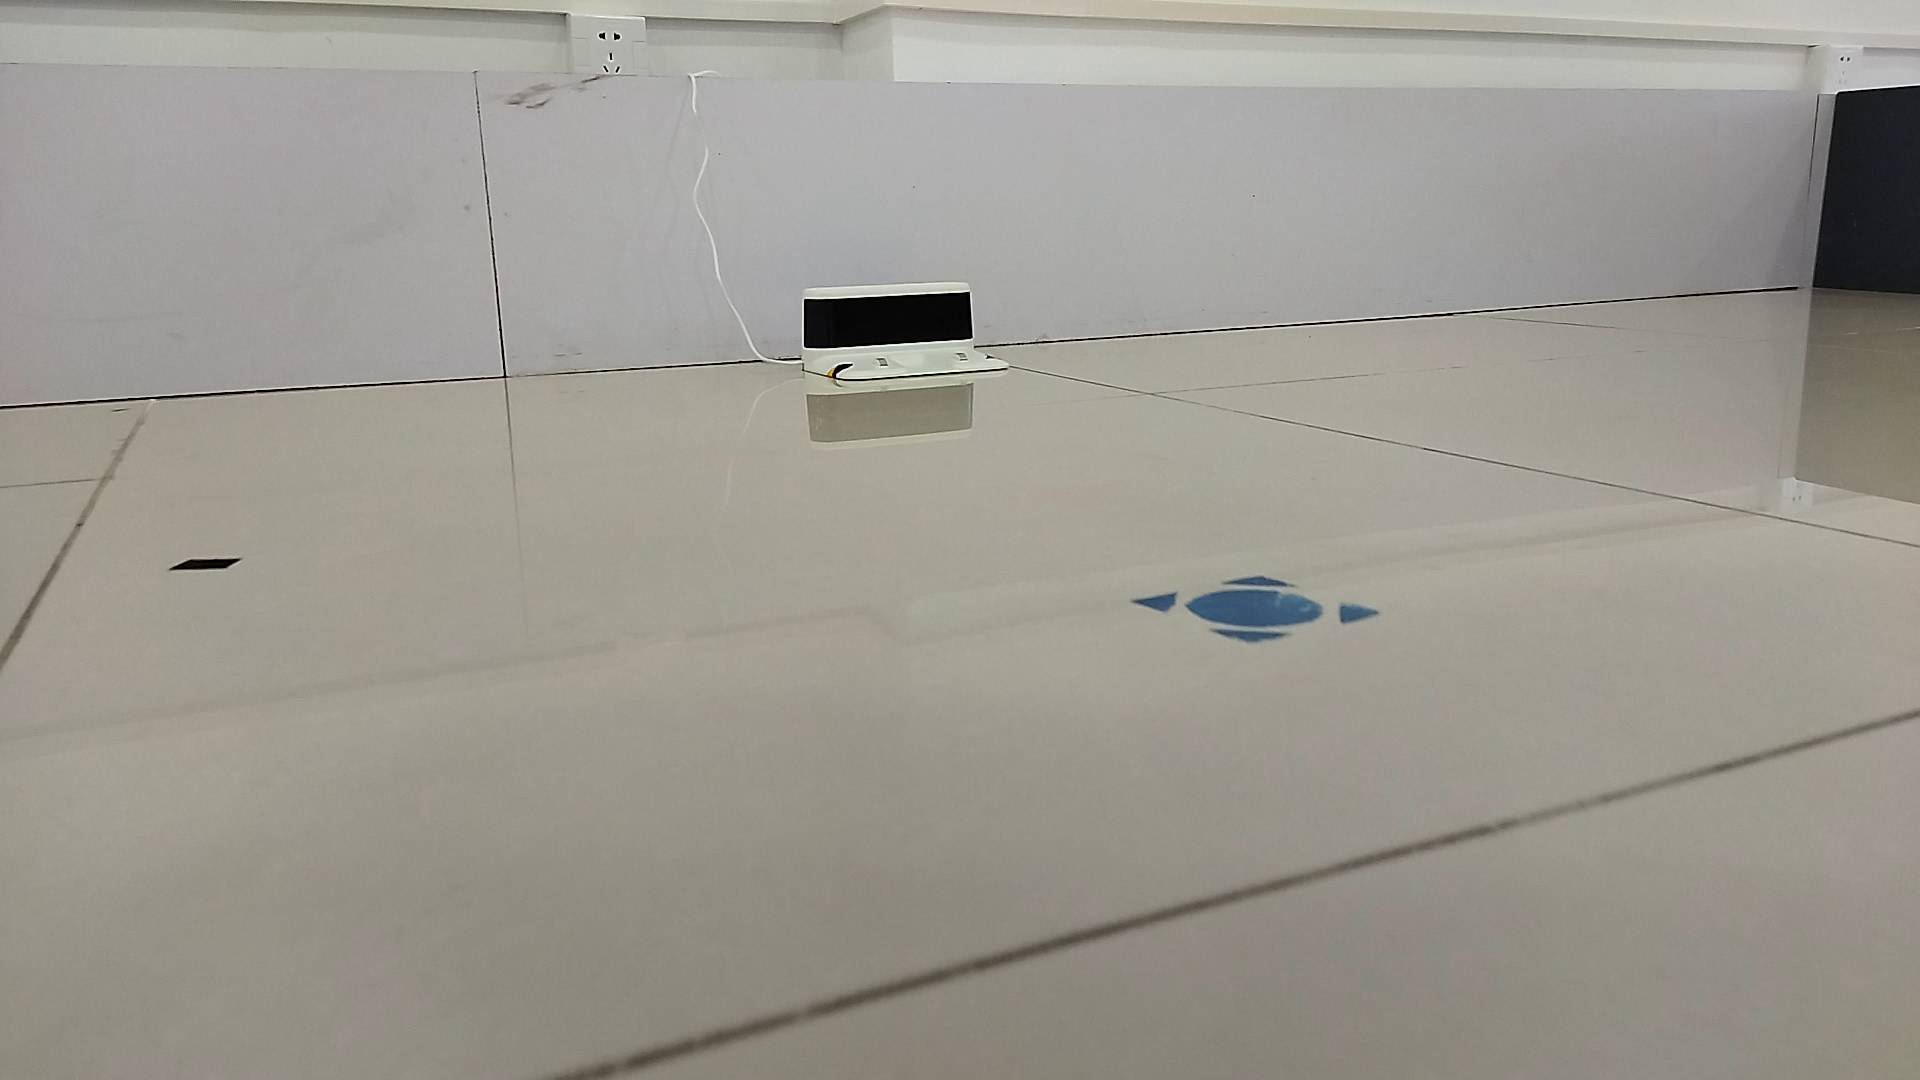recharge seat: (796, 281, 1022, 377)
